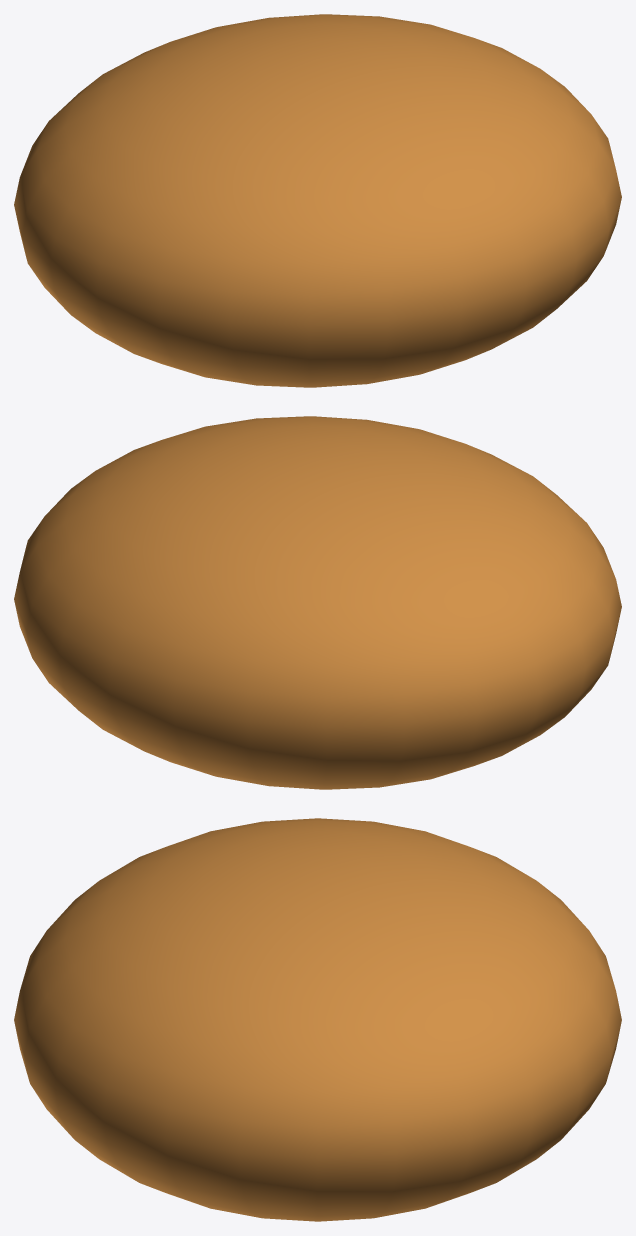
File: wp-pain-de-campagne.glb
3 views of the same model, one above another, from view 1: azimuth 30°, elevation 25°; view 2: azimuth 150°, elevation 25°; view 3: azimuth 270°, elevation 25° (orthographic). The views are drawn at different scales.
Parts seen in each view (by area): view 1: wp-pain-de-campagne; view 2: wp-pain-de-campagne; view 3: wp-pain-de-campagne.
Boxes of the visible parts, x1,y1,x2,y2 form: wp-pain-de-campagne: [14, 14, 621, 387]; wp-pain-de-campagne: [14, 416, 621, 789]; wp-pain-de-campagne: [14, 818, 621, 1221].
Bounding box in the file's own units: 0.3 × 0.15 × 0.28.
